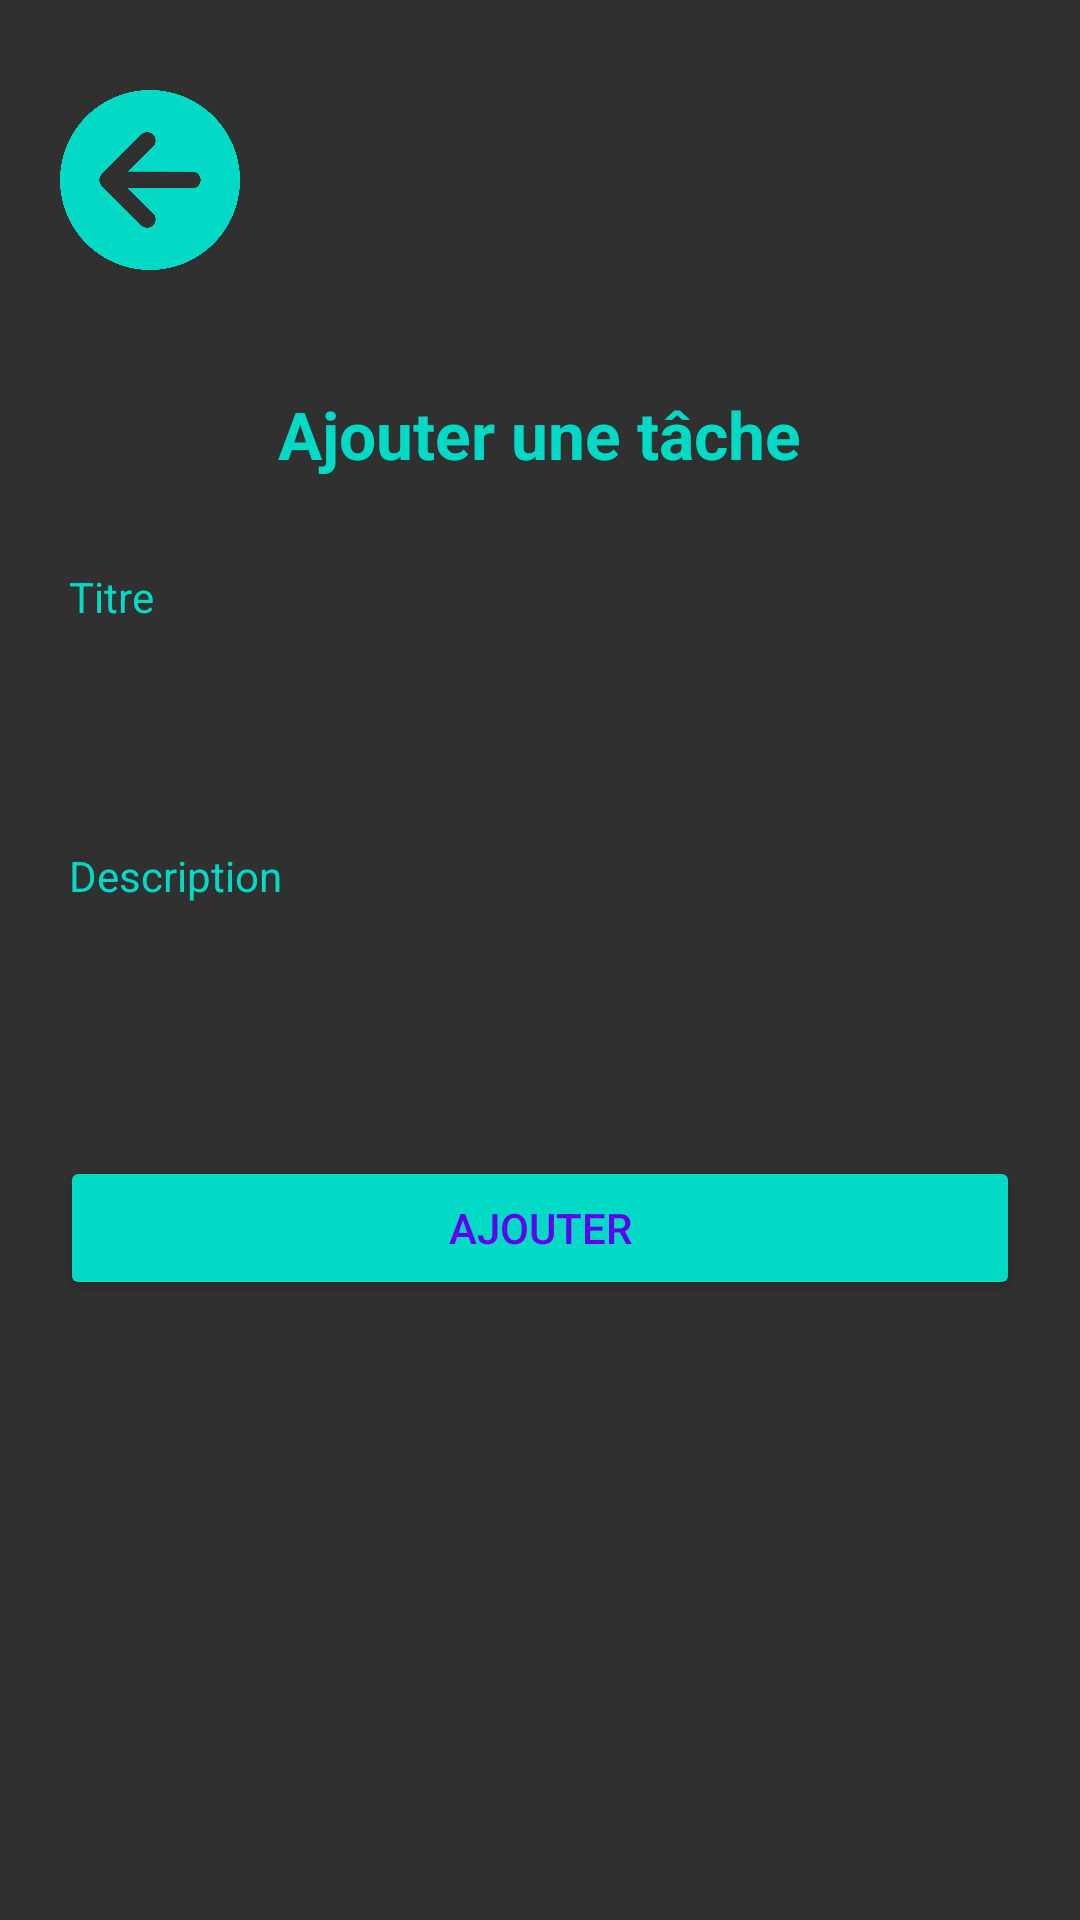

Named icons in this screenshot (1080px×1920px) and their centers, [x,y]:
arrowleft: [150,180]
